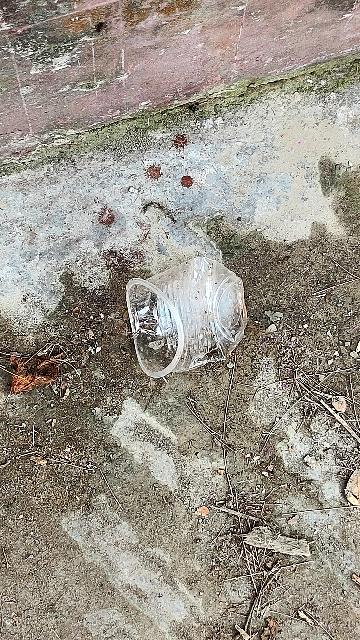hardplastic: (112, 251, 256, 383)
